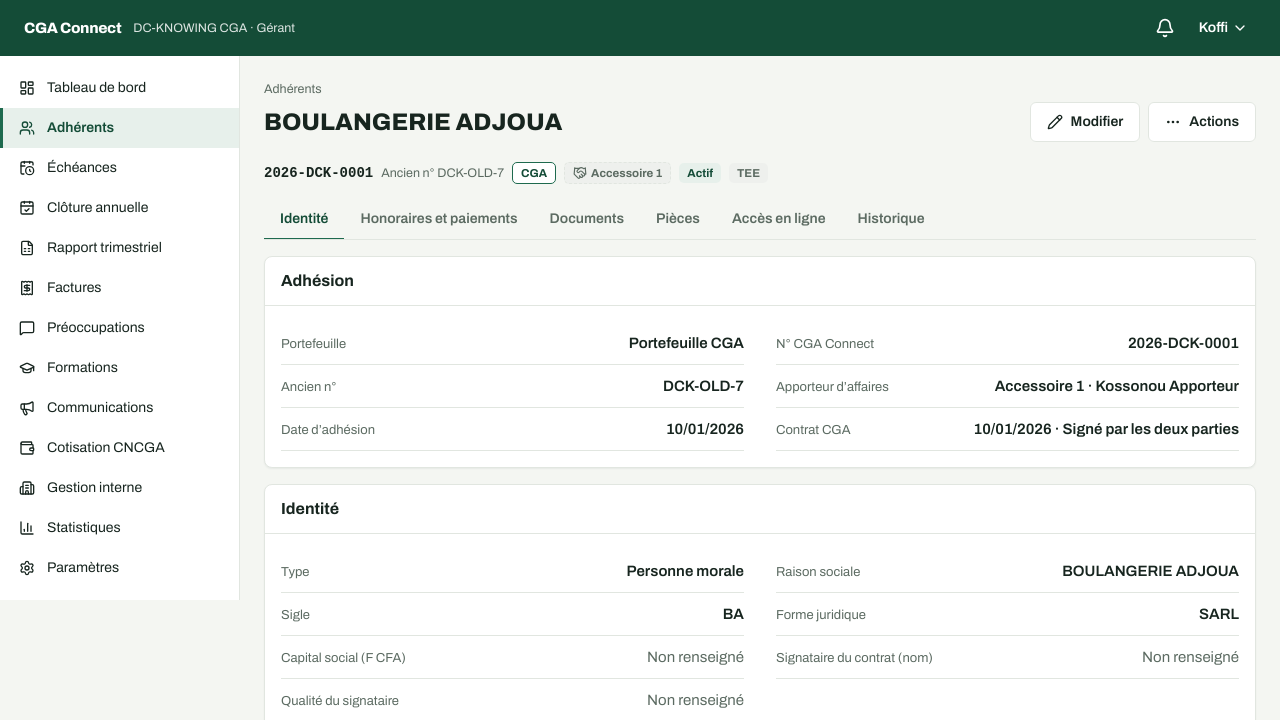
Scenario: /cga/adherents/:id · pièces, accès en ligne, historique › onglet Historique : auteur, ancienne → nouvelle valeur, justificatif, source
Expected: the heading "BOULANGERIE ADJOUA" is shown, [264,106,562,138]
What coordinates should you click on to do the following:
click the tab "Historique"
I would click on:
 (891, 220)
Its box is [842,200,941,240].
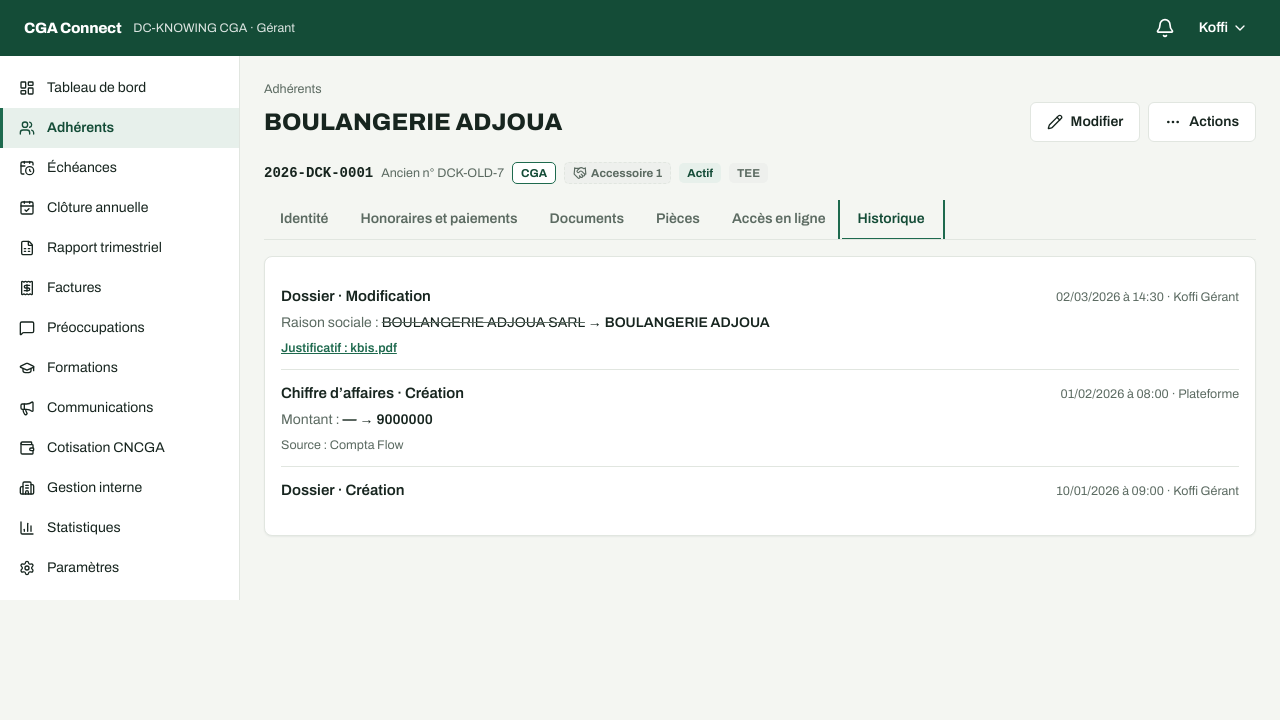
Expected: the text "Dossier · Modification" is shown, [281,285,431,307]
Expected: the text "Plateforme" is shown, [1178,387,1239,401]
